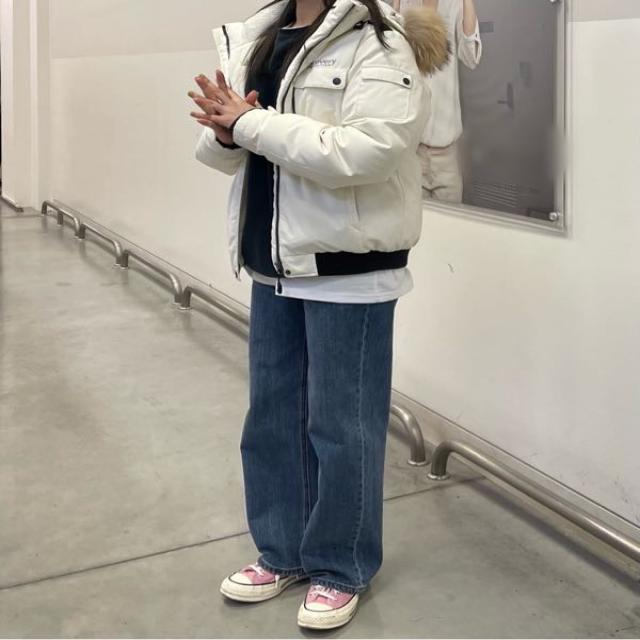cottonpants: (241, 270, 389, 592)
padding: (193, 0, 431, 277)
